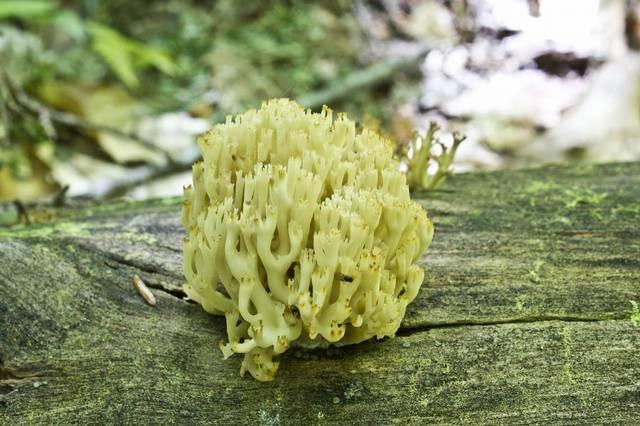Edible Mushroom: (179, 96, 435, 382)
